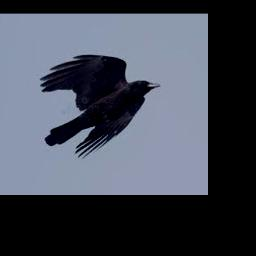Crow: (40, 53, 161, 157)
